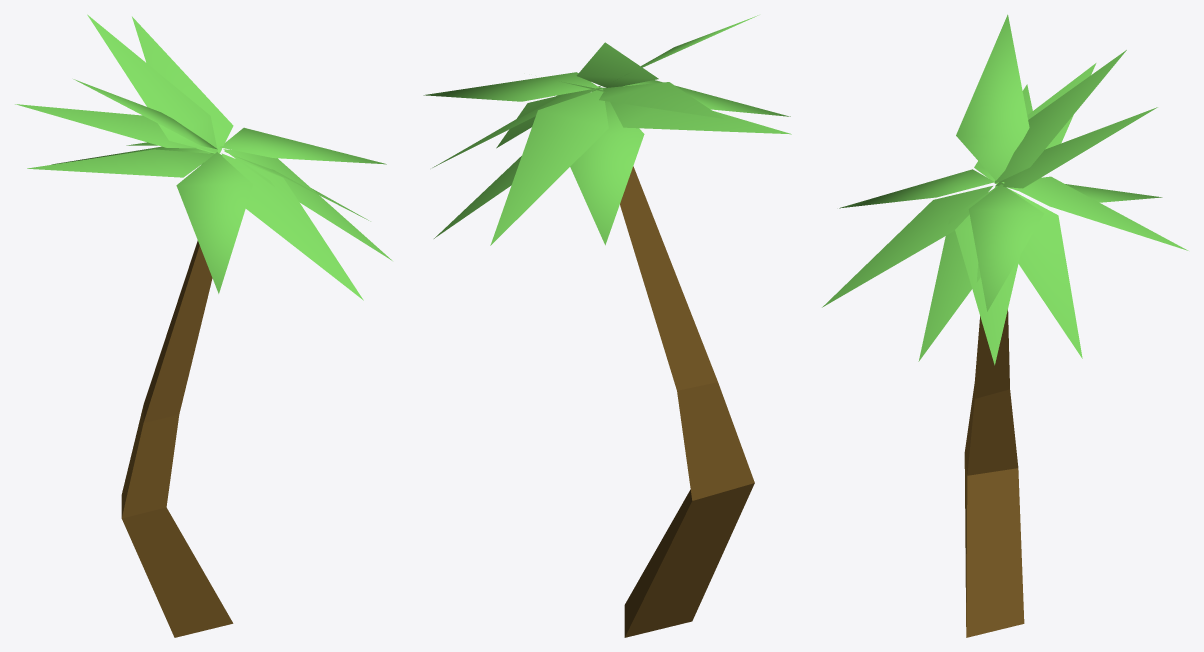
File: palm tree coconuts 2 LOD.fbx
The picture shows the model from 3 angles, left to right: view 1: azimuth 30°, elevation 25°; view 2: azimuth 150°, elevation 25°; view 3: azimuth 270°, elevation 25°; orthographic projection. The views are drawn at different scales.
Visible parts, largest first — view 1: LODLeaves, LODTrunk; view 2: LODLeaves, LODTrunk; view 3: LODLeaves, LODTrunk.
Boxes of the visible parts, x1,y1,x2,y2 form: LODLeaves: (15, 14, 392, 300); LODTrunk: (121, 240, 233, 637); LODLeaves: (423, 15, 791, 245); LODTrunk: (620, 166, 754, 637); LODLeaves: (822, 14, 1188, 365); LODTrunk: (964, 310, 1024, 637).
Bounding box in the file's own units: 286 × 452 × 270.
